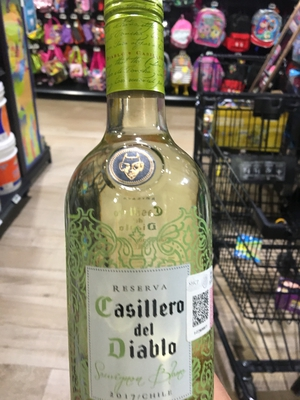casillero del diablo sauvignon blanc: (57, 19, 229, 400)
